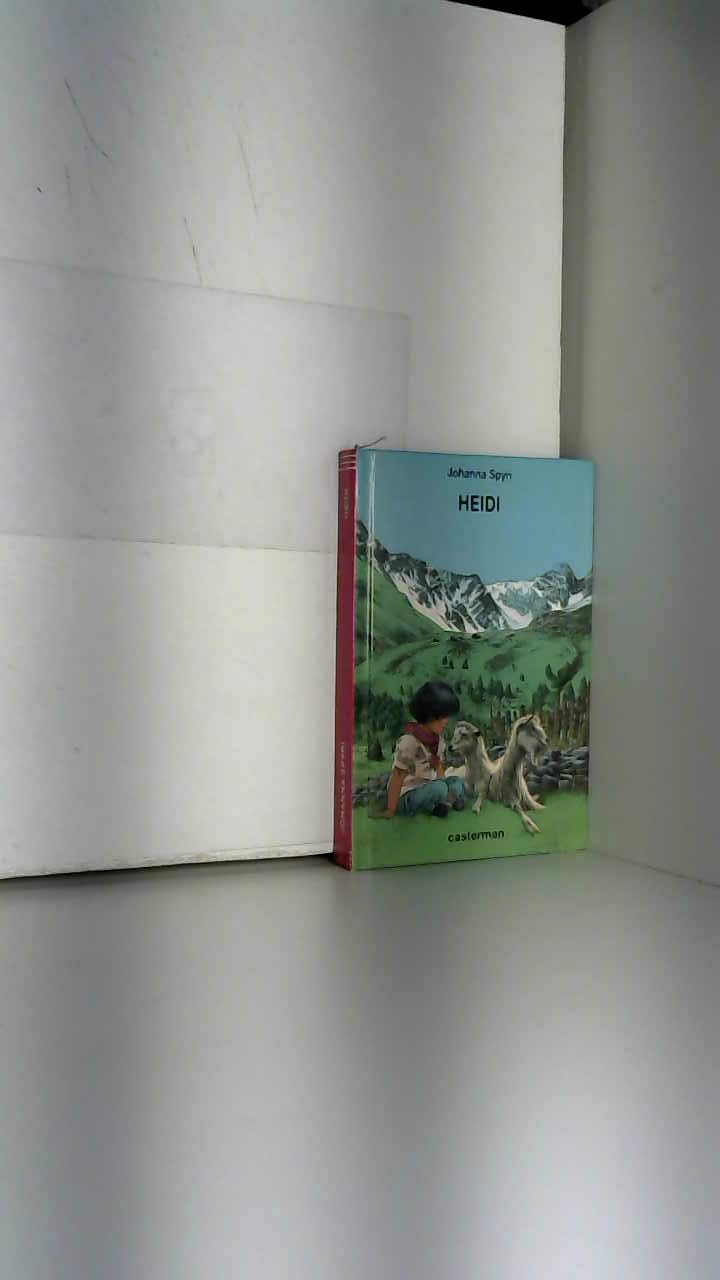book: (301, 395, 640, 905)
